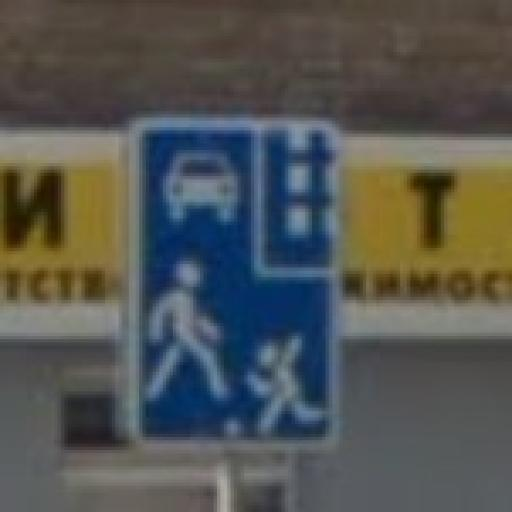traffic_sign: (130, 115, 347, 454)
